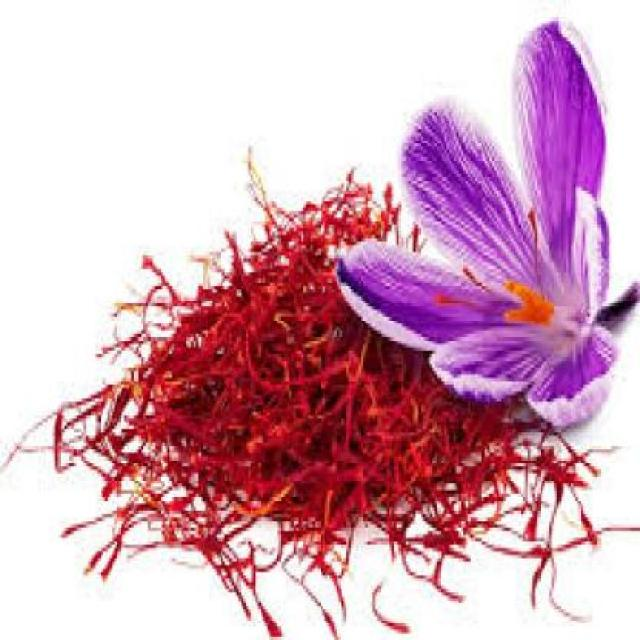Flower: (336, 19, 629, 418)
stigma: (434, 292, 498, 320), (528, 204, 544, 310)
